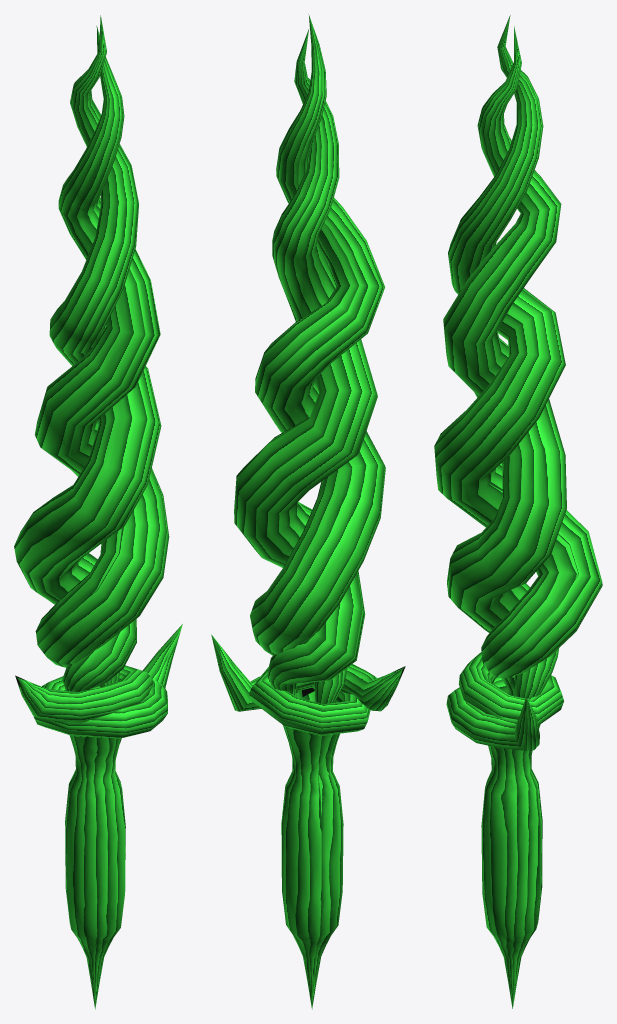
File: Sword_Plant.glb
3 renders of one model, left to right at view 1: azimuth 30°, elevation 25°; view 2: azimuth 150°, elevation 25°; view 3: azimuth 270°, elevation 25°, orthographic.
Visible parts, largest first — view 1: Sword_Plant_Blade, Sword_Plant_Knob, Sword_Plant_Guard; view 2: Sword_Plant_Blade, Sword_Plant_Knob, Sword_Plant_Guard; view 3: Sword_Plant_Blade, Sword_Plant_Knob, Sword_Plant_Guard.
Part boxes in pixels (left/top/right/bottom): Sword_Plant_Blade: left=14, top=15, right=169, bottom=691; Sword_Plant_Knob: left=65, top=735, right=125, bottom=1009; Sword_Plant_Guard: left=15, top=624, right=182, bottom=738; Sword_Plant_Blade: left=234, top=14, right=385, bottom=704; Sword_Plant_Knob: left=281, top=687, right=343, bottom=1009; Sword_Plant_Guard: left=211, top=634, right=405, bottom=735; Sword_Plant_Blade: left=434, top=15, right=602, bottom=698; Sword_Plant_Knob: left=481, top=724, right=542, bottom=1008; Sword_Plant_Guard: left=446, top=652, right=563, bottom=750.
Size of the model in its own units: 0.9304 by 4.88 by 0.7463.
1 material, 1 textured.
